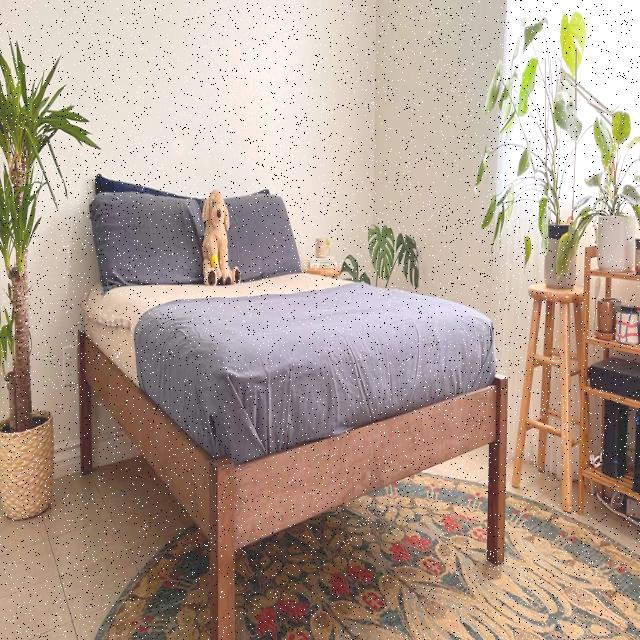bed: (74, 174, 506, 440)
